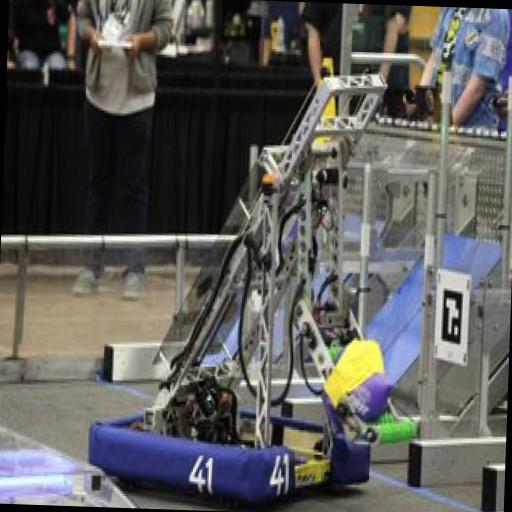robot: (80, 52, 432, 507)
